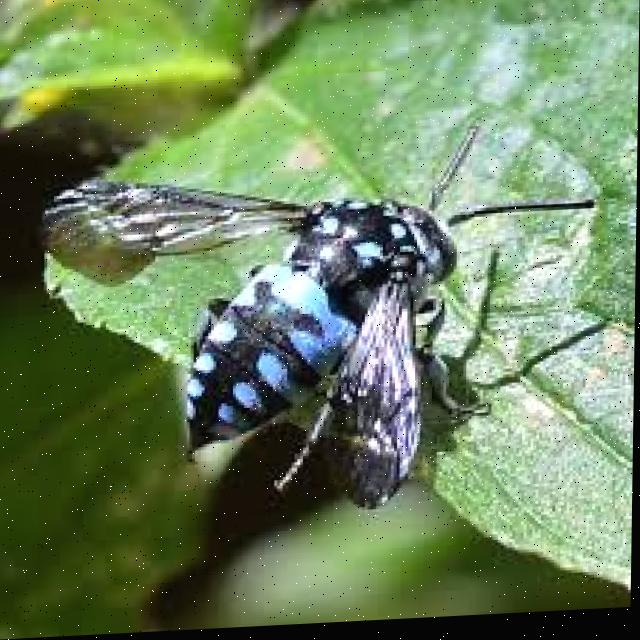Thyreus: (57, 97, 585, 517)
